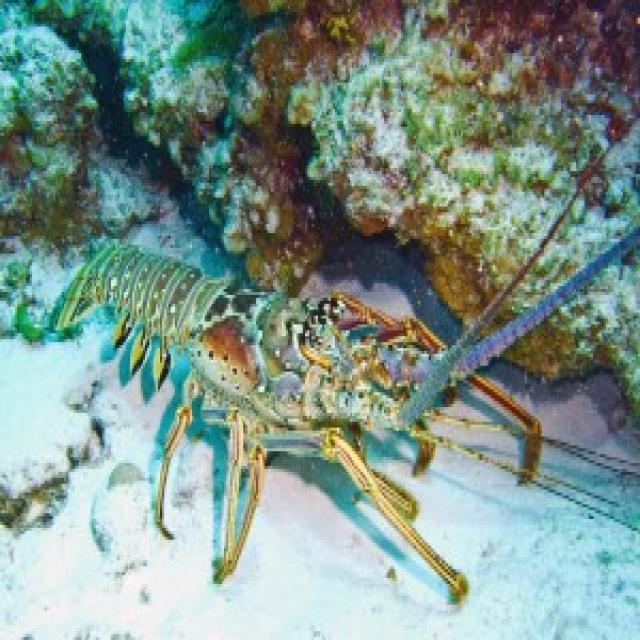lobsters: (18, 69, 640, 593)
